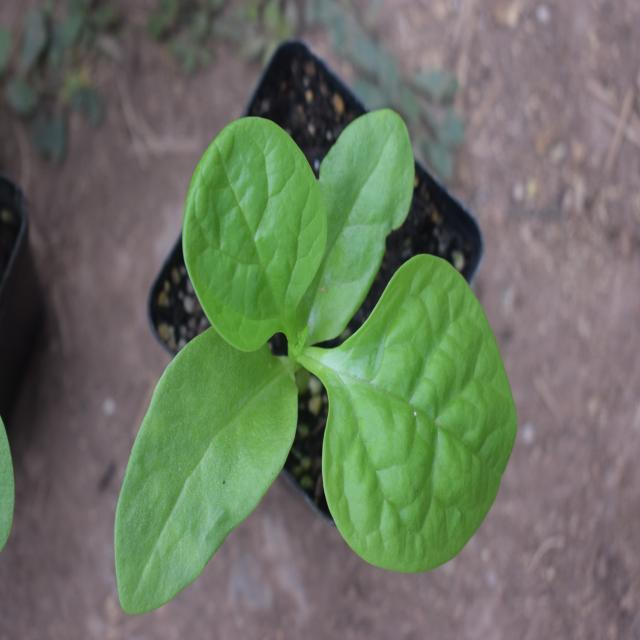Ceylon spinach: (126, 126, 528, 590)
